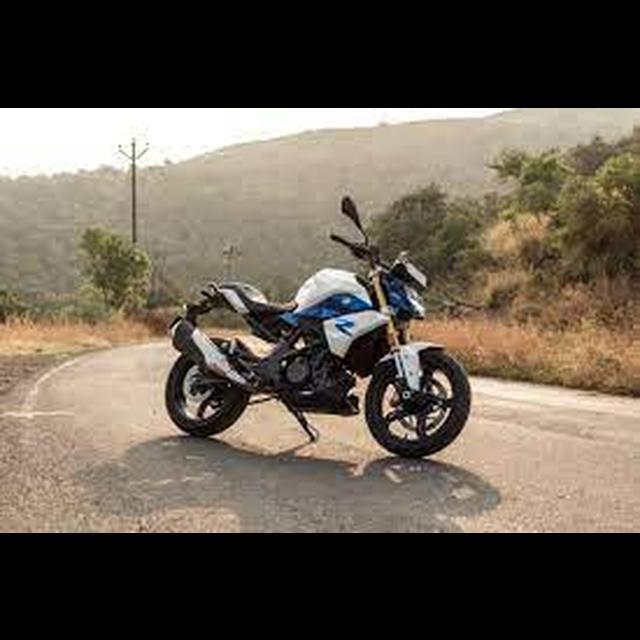motorcycle: (165, 193, 473, 466)
